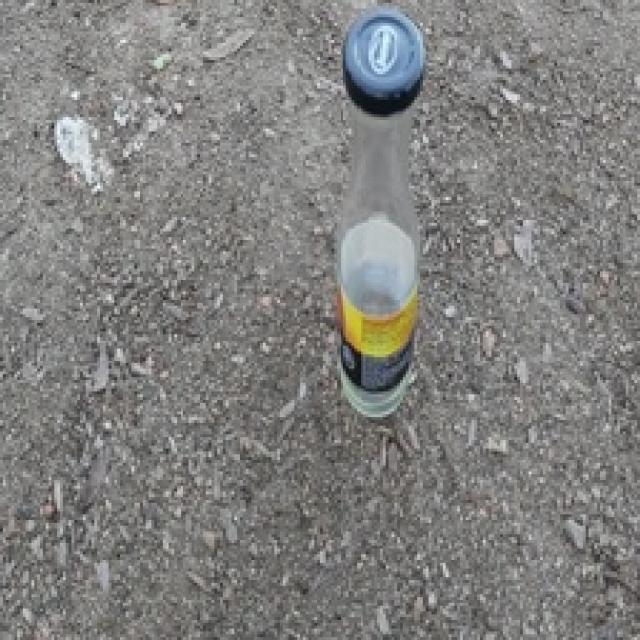garbage: (280, 0, 525, 451)
